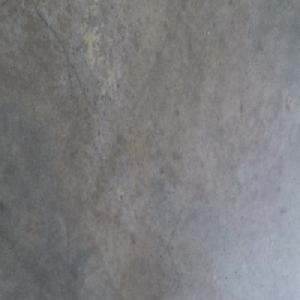Wrench: (164, 294, 172, 299)
